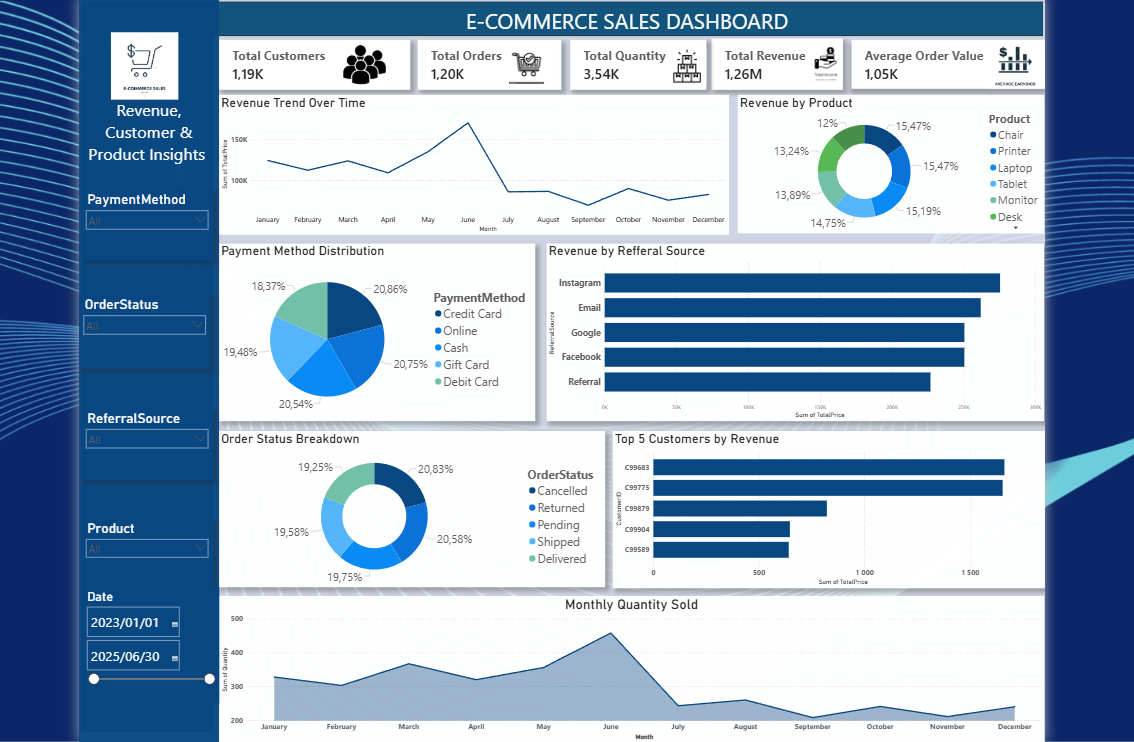

What the dashboard file says about the page in this screenshot:
{"tool":"powerbi","page":{"name":"Page 1","canvas":[2200,1700],"ordinal":0},"visuals":[{"type":"cardVisual","fields":{"Data":["ecommerce_orders_dataset.Total Customers"]},"box":[319,99.7,435.8,113.9],"z":0},{"type":"cardVisual","fields":{"Data":["ecommerce_orders_dataset.Average Order Value"]},"box":[1760.4,99.7,441.5,111.1],"z":1000},{"type":"cardVisual","fields":{"Data":["ecommerce_orders_dataset.Total Revenue"]},"box":[1441.4,96.9,299.1,116.8],"z":2000},{"type":"cardVisual","fields":{"Data":["ecommerce_orders_dataset.Total Orders"]},"box":[772,99.7,327.6,113.9],"z":3000},{"type":"cardVisual","fields":{"Data":["ecommerce_orders_dataset.Total Quantity"]},"box":[1119.5,99.7,310.5,113.9],"z":4000},{"type":"image","box":[1663.5,116.8,76.9,76.9],"z":5000},{"type":"image","box":[1341.7,119.6,88.3,79.8],"z":6000},{"type":"image","box":[974.2,119.6,91.2,79.8],"z":7000},{"type":"image","box":[584,108.2,133.9,96.9],"z":8000},{"type":"image","box":[2068,99.7,131,119.6],"z":9000},{"type":"lineChart","title":"Revenue Trend Over Time","fields":{"Category":["ecommerce_orders_dataset.Date.Variation.Date Hierarchy.Month","ecommerce_orders_dataset.Date.Variation.Date Hierarchy.Day"],"Y":["Sum(ecommerce_orders_dataset.TotalPrice)"]},"box":[319,225,1162.2,319],"z":10000},{"type":"donutChart","title":"Revenue by Product","fields":{"Category":["ecommerce_orders_dataset.Product"],"Y":["Sum(ecommerce_orders_dataset.TotalPrice)"]},"box":[1501.2,225,697.9,316.2],"z":11000},{"type":"barChart","title":"Revenue by Refferal Source","fields":{"Category":["ecommerce_orders_dataset.ReferralSource"],"Y":["Sum(ecommerce_orders_dataset.TotalPrice)"]},"box":[1065.4,564,1133.7,404.5],"z":12000},{"type":"pieChart","title":"Payment Method Distribution","fields":{"Category":["ecommerce_orders_dataset.PaymentMethod"],"Y":["Sum(ecommerce_orders_dataset.TotalPrice)"]},"box":[319,564,720.7,404.5],"z":13000},{"type":"donutChart","title":"Order Status Breakdown","fields":{"Category":["ecommerce_orders_dataset.OrderStatus"],"Y":["CountNonNull(ecommerce_orders_dataset.OrderID)"]},"box":[319,991.3,880.2,356.1],"z":14000},{"type":"clusteredBarChart","title":"Top 5 Customers by Revenue","fields":{"Category":["ecommerce_orders_dataset.CustomerID"],"Y":["Sum(ecommerce_orders_dataset.TotalPrice)"]},"box":[1215.5,990.3,984.6,358],"z":15000},{"type":"areaChart","title":"Monthly Quantity Sold","fields":{"Category":["ecommerce_orders_dataset.Date.Variation.Date Hierarchy.Month","ecommerce_orders_dataset.Date.Variation.Date Hierarchy.Day"],"Y":["Sum(ecommerce_orders_dataset.Quantity)"]},"box":[319,1367.3,1880,333.3],"z":16000},{"type":"textbox","box":[0,0,319,1700.6],"z":17000},{"type":"textbox","box":[299.1,0,1900,99.7],"z":18000},{"type":"image","box":[0,82.6,299.1,153.8],"z":19000},{"type":"slicer","fields":{"Values":["ecommerce_orders_dataset.Product"]},"box":[5.7,1190.7,299.1,159.5],"z":20000},{"type":"slicer","fields":{"Values":["ecommerce_orders_dataset.PaymentMethod"]},"box":[5.7,441.5,299.1,159.5],"z":21000},{"type":"slicer","fields":{"Values":["ecommerce_orders_dataset.OrderStatus"]},"box":[0,680.8,299.1,168.1],"z":22000},{"type":"slicer","fields":{"Values":["ecommerce_orders_dataset.ReferralSource"]},"box":[5.7,940,299.1,162.4],"z":23000},{"type":"slicer","fields":{"Values":["ecommerce_orders_dataset.Date"]},"box":[5.7,1347.4,313.3,264.9],"z":24000}]}

Visuals, with their boxes in screenshot pixels (x1, y1, x2, y2):
cardVisual - ecommerce_orders_dataset.Total Customers: region(216, 33, 410, 83)
cardVisual - ecommerce_orders_dataset.Average Order Value: region(859, 33, 1055, 82)
cardVisual - ecommerce_orders_dataset.Total Revenue: region(716, 31, 850, 83)
cardVisual - ecommerce_orders_dataset.Total Orders: region(418, 33, 564, 83)
cardVisual - ecommerce_orders_dataset.Total Quantity: region(573, 33, 711, 83)
image: region(815, 40, 850, 75)
image: region(672, 42, 711, 77)
image: region(508, 42, 549, 77)
image: region(334, 36, 394, 80)
image: region(996, 33, 1054, 86)
"Revenue Trend Over Time" lineChart: region(216, 88, 734, 231)
"Revenue by Product" donutChart: region(743, 88, 1054, 229)
"Revenue by Refferal Source" barChart: region(549, 240, 1054, 420)
"Payment Method Distribution" pieChart: region(216, 240, 537, 420)
"Order Status Breakdown" donutChart: region(216, 430, 608, 589)
"Top 5 Customers by Revenue" clusteredBarChart: region(616, 430, 1055, 589)
"Monthly Quantity Sold" areaChart: region(216, 598, 1054, 741)
textbox: region(74, 0, 216, 741)
textbox: region(207, 0, 1054, 33)
image: region(74, 25, 207, 94)
slicer - ecommerce_orders_dataset.Product: region(76, 519, 210, 590)
slicer - ecommerce_orders_dataset.PaymentMethod: region(76, 185, 210, 256)
slicer - ecommerce_orders_dataset.OrderStatus: region(74, 292, 207, 367)
slicer - ecommerce_orders_dataset.ReferralSource: region(76, 407, 210, 480)
slicer - ecommerce_orders_dataset.Date: region(76, 589, 216, 707)
